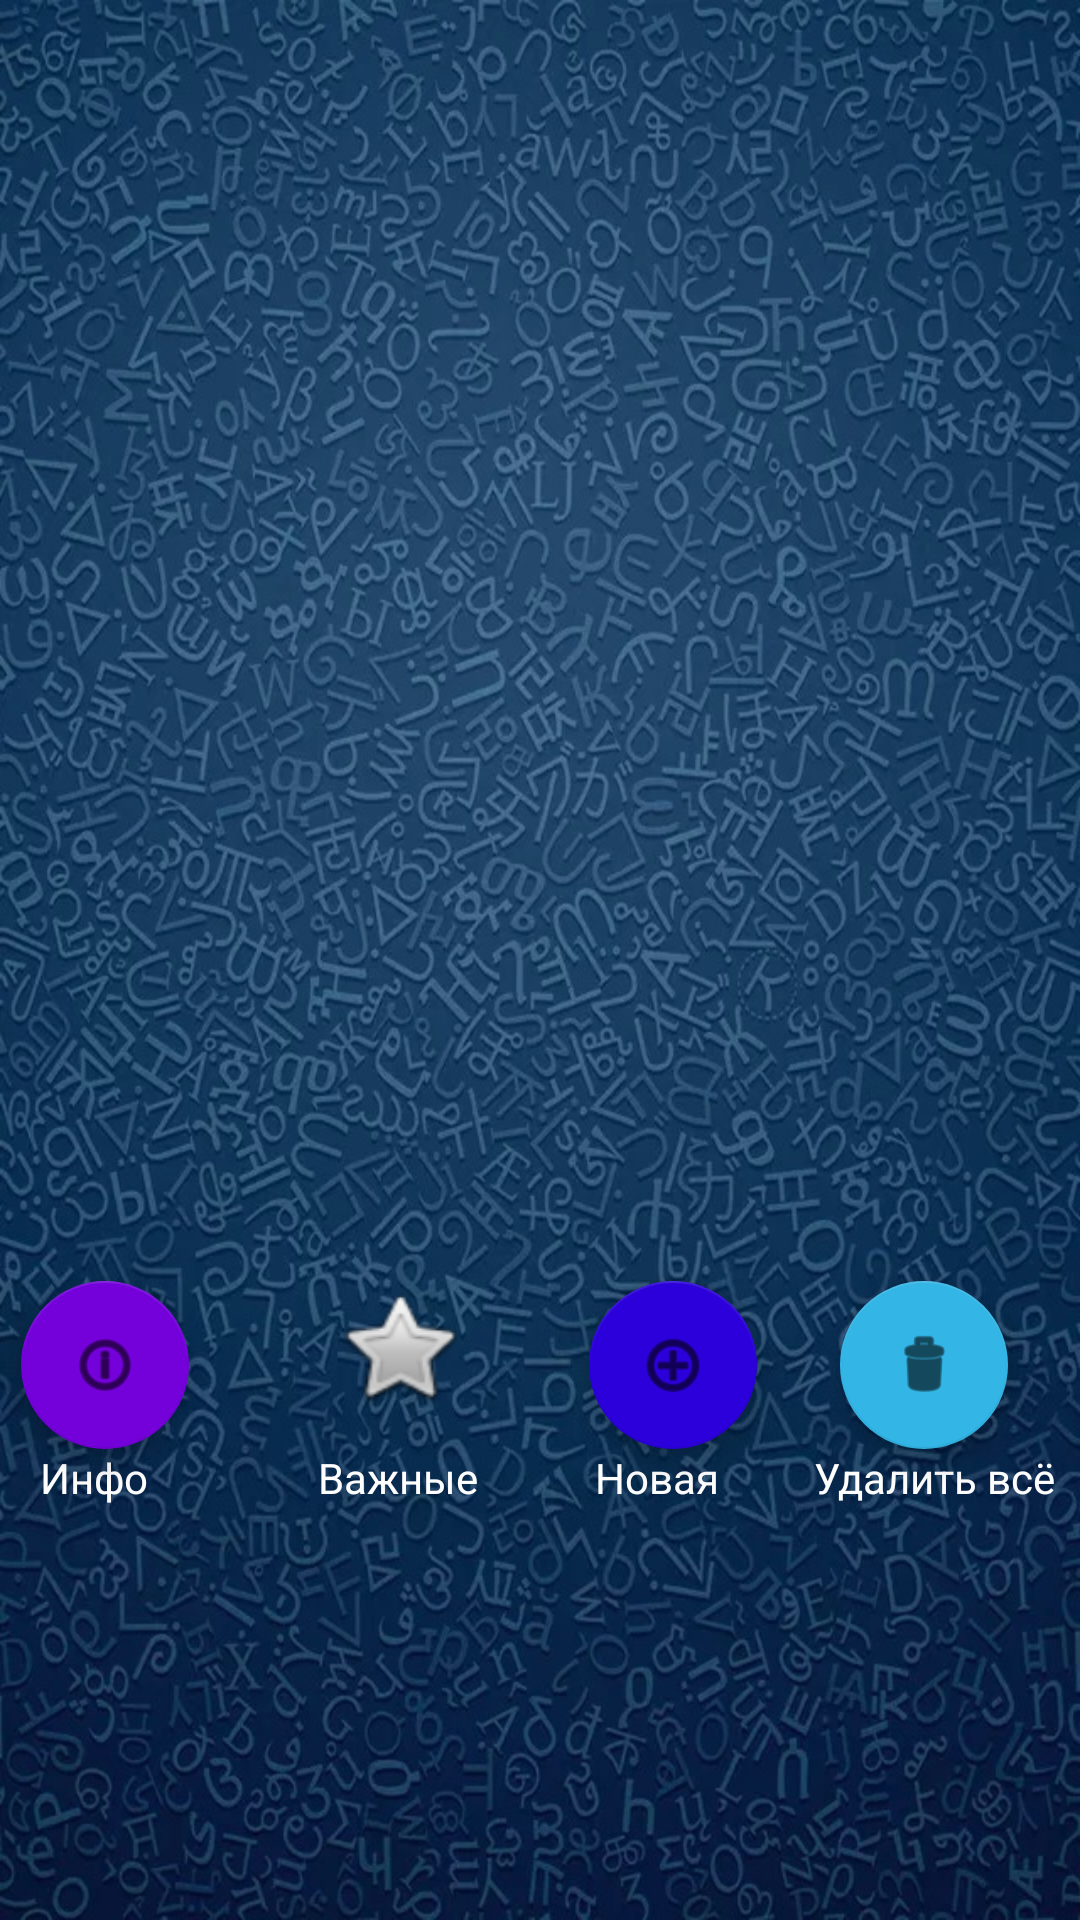

Point at icon controls on the screen. Image size 1080 × 1920, points as (x=x, y=y).
add: (x=673, y=1365)
